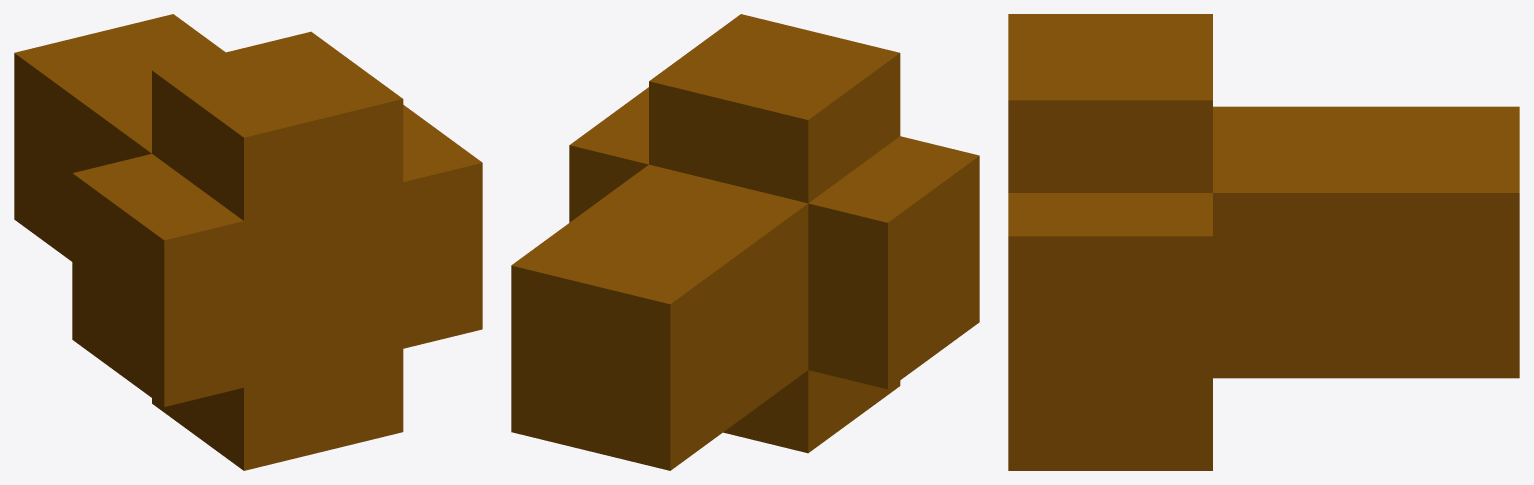
Rendered from basicBullet.obj.
The picture shows the model from 3 angles, left to right: view 1: azimuth 30°, elevation 25°; view 2: azimuth 150°, elevation 25°; view 3: azimuth 270°, elevation 25°; orthographic projection. The views are drawn at different scales.
Bounding box in the file's own units: 0.4 × 0.4 × 0.5.
Materials: 1 (1 with a texture image).
